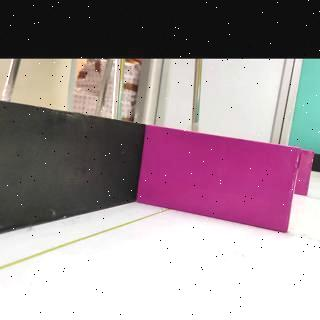xparking: (136, 126, 302, 234), (295, 152, 315, 195)
